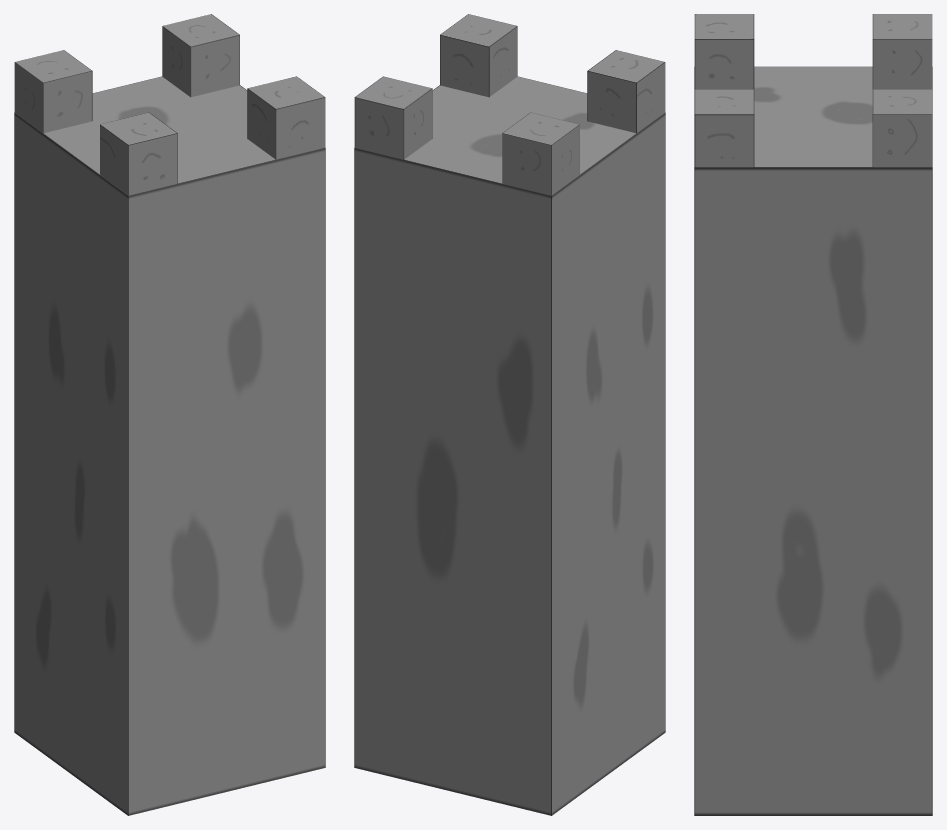
Rendered from wall.fbx.
The picture shows the model from 3 angles, left to right: view 1: azimuth 30°, elevation 25°; view 2: azimuth 150°, elevation 25°; view 3: azimuth 270°, elevation 25°; orthographic projection. The views are drawn at different scales.
Parts seen in each view (by area): view 1: Cube.001; view 2: Cube.001; view 3: Cube.001.
Boxes of the visible parts, x1,y1,x2,y2 form: Cube.001: (14,14,325,815); Cube.001: (354,14,665,815); Cube.001: (694,14,932,815).
Size of the model in its own units: 200 by 649 by 200.
